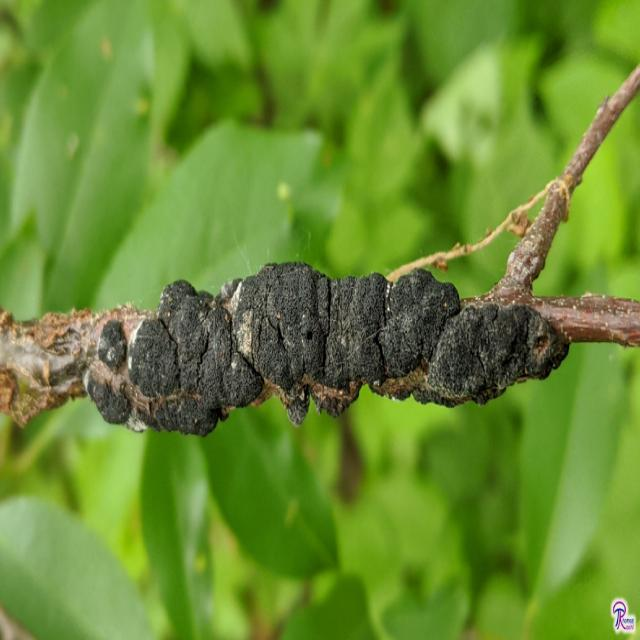Black_knot: (82, 258, 566, 437)
